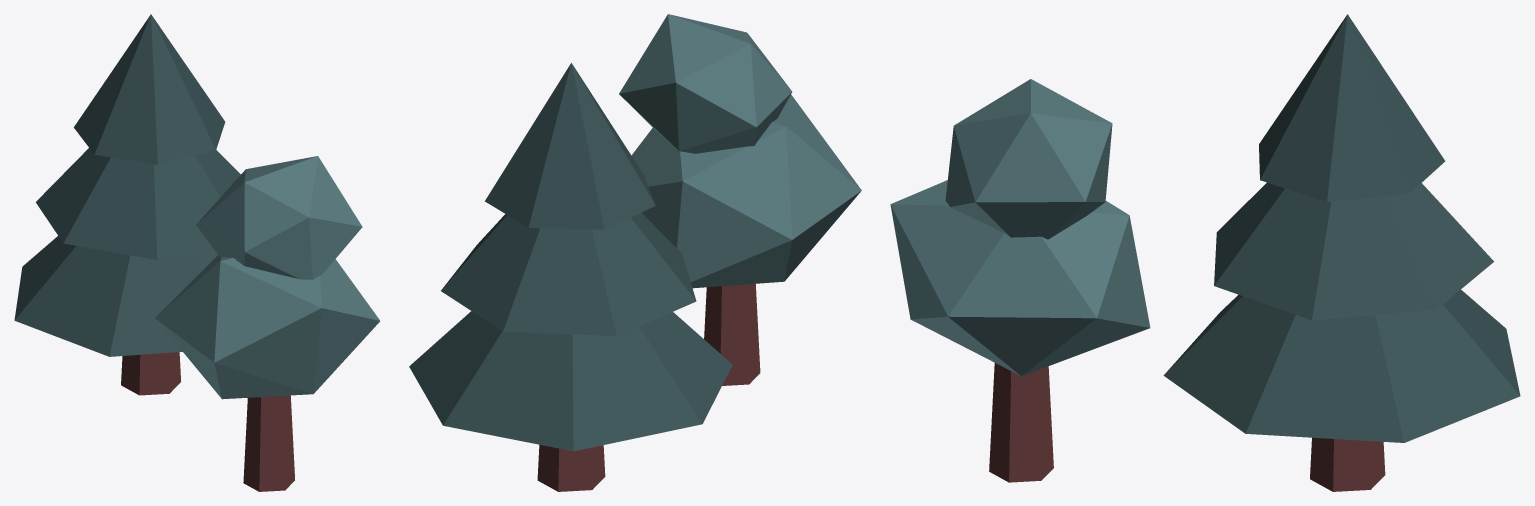
Rendered from grove7.glb.
The picture shows the model from 3 angles, left to right: view 1: azimuth 30°, elevation 25°; view 2: azimuth 150°, elevation 25°; view 3: azimuth 270°, elevation 25°; orthographic projection. The views are drawn at different scales.
Parts seen in each view (by area): view 1: grove7; view 2: grove7; view 3: grove7.
Part boxes in pixels (left/top/right/bottom): grove7: left=14, top=14, right=379, bottom=491; grove7: left=409, top=14, right=861, bottom=491; grove7: left=890, top=14, right=1520, bottom=491.
Bounding box in the file's own units: 0.705 × 1 × 1.24.
